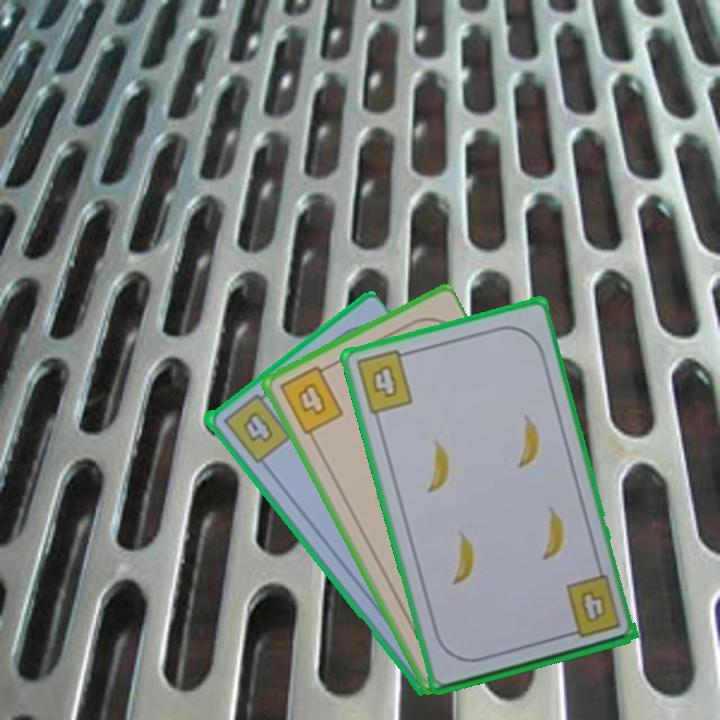4b: (218, 386, 293, 466), (275, 360, 346, 438), (351, 346, 416, 417), (579, 585, 605, 623)
